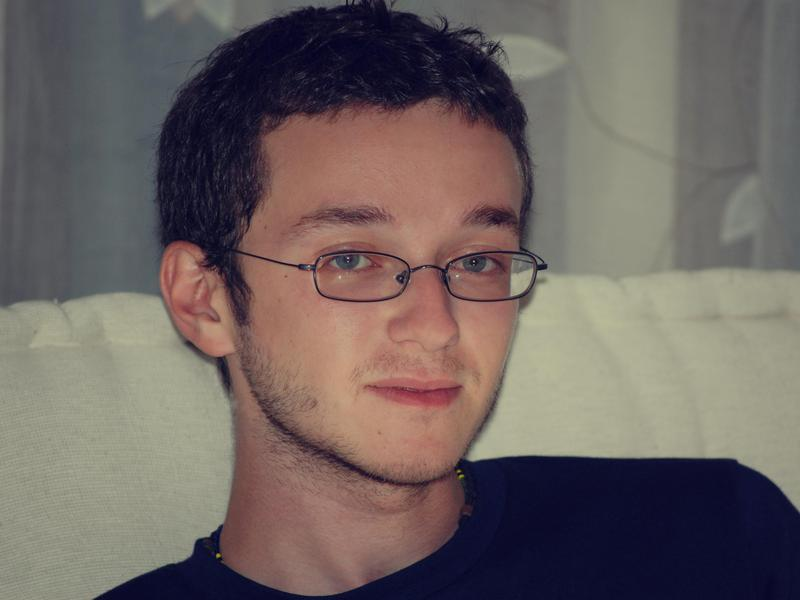person: (100, 2, 796, 600)
